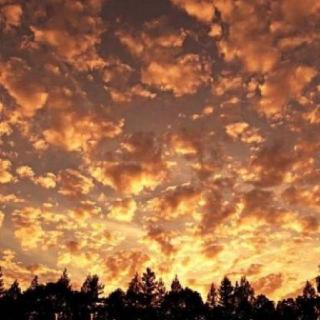Cirrocumulus: (0, 0, 320, 288)
